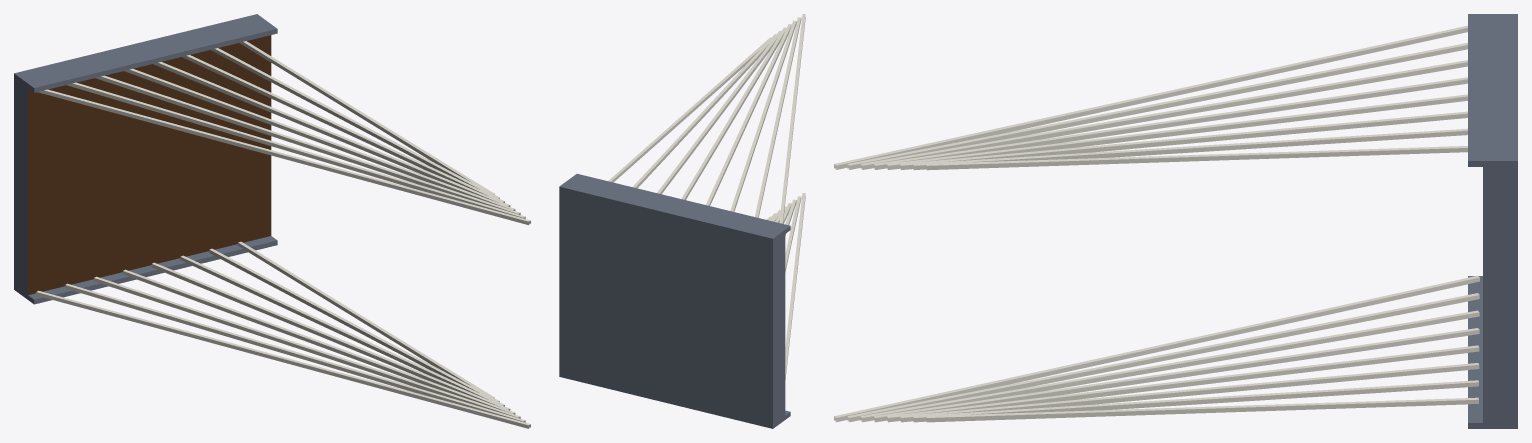
The model's file is inner_south.glb.
3 views of the same model, side by side, from view 1: azimuth 30°, elevation 25°; view 2: azimuth 150°, elevation 25°; view 3: azimuth 270°, elevation 25° (orthographic). The views are drawn at different scales.
Parts seen in each view (by area): view 1: bridge_03_inner_south; view 2: bridge_03_inner_south; view 3: bridge_03_inner_south.
Boxes of the visible parts, x1,y1,x2,y2 form: bridge_03_inner_south: [14, 14, 530, 428]; bridge_03_inner_south: [559, 14, 805, 428]; bridge_03_inner_south: [834, 14, 1517, 428].
Size of the model in its own units: 16 by 13.6 by 31.45.
